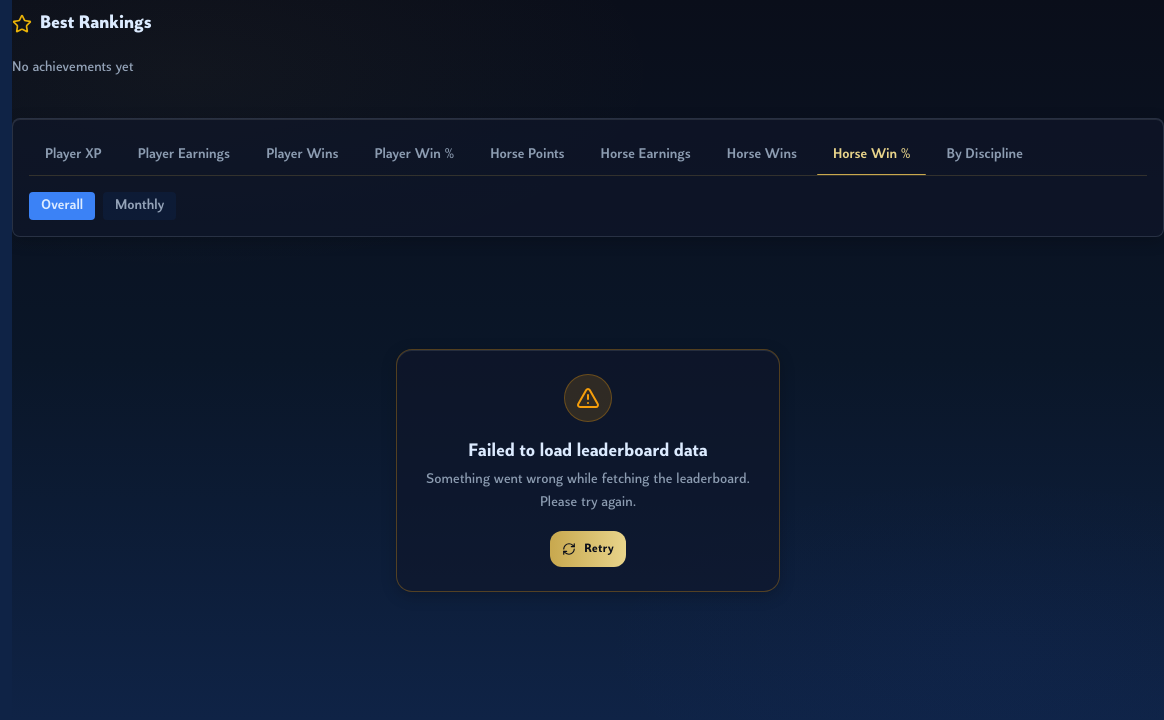
LeaderboardsPage — win percentage board (Equoria-xxdqh) › shows an error with a retry that re-fetches, never the empty state
(page scrolled)
What coordinates should you click on to do the following:
click the button "Retry"
I would click on:
 (588, 548)
Its box is [550,530,626,566].
(page scrolled)
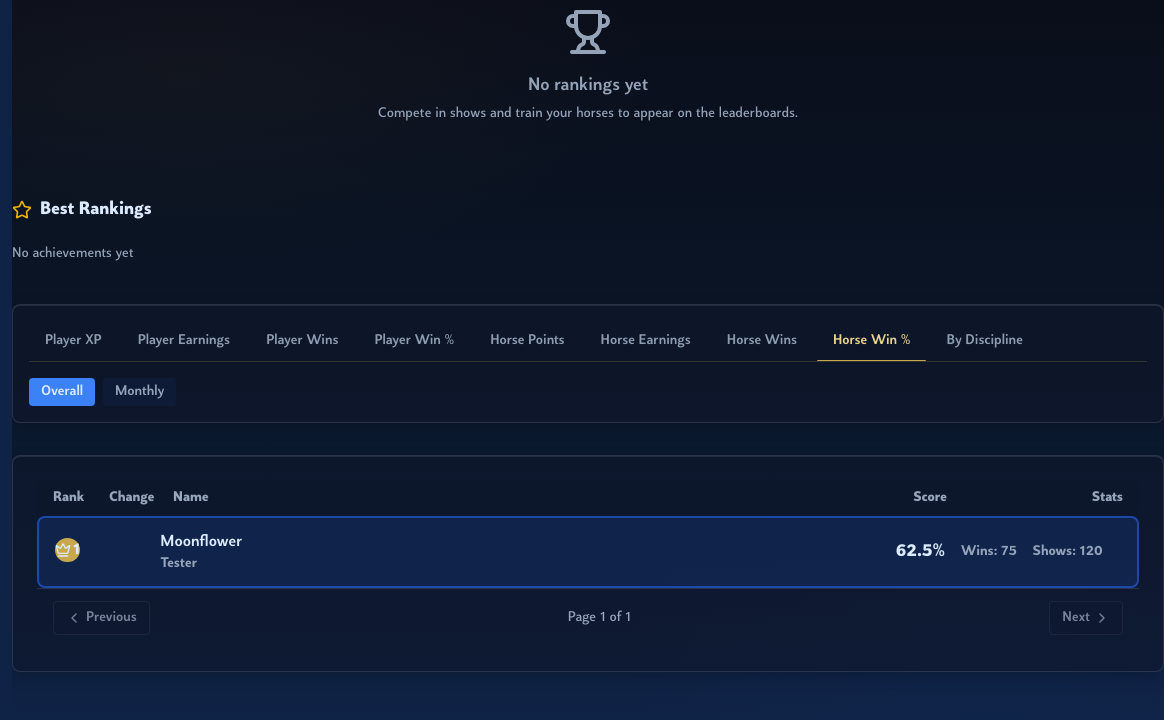
Check: the text "Moonflower" is shown, box [160,534,242,550]
